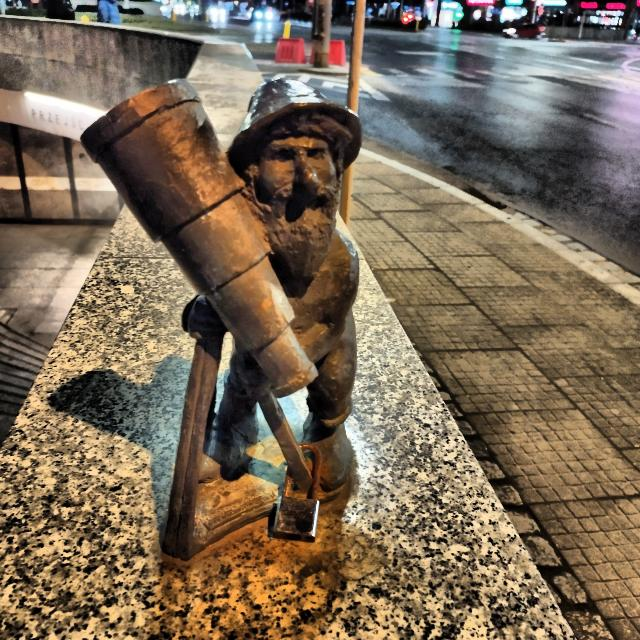Lunetyk: (79, 78, 363, 563)
